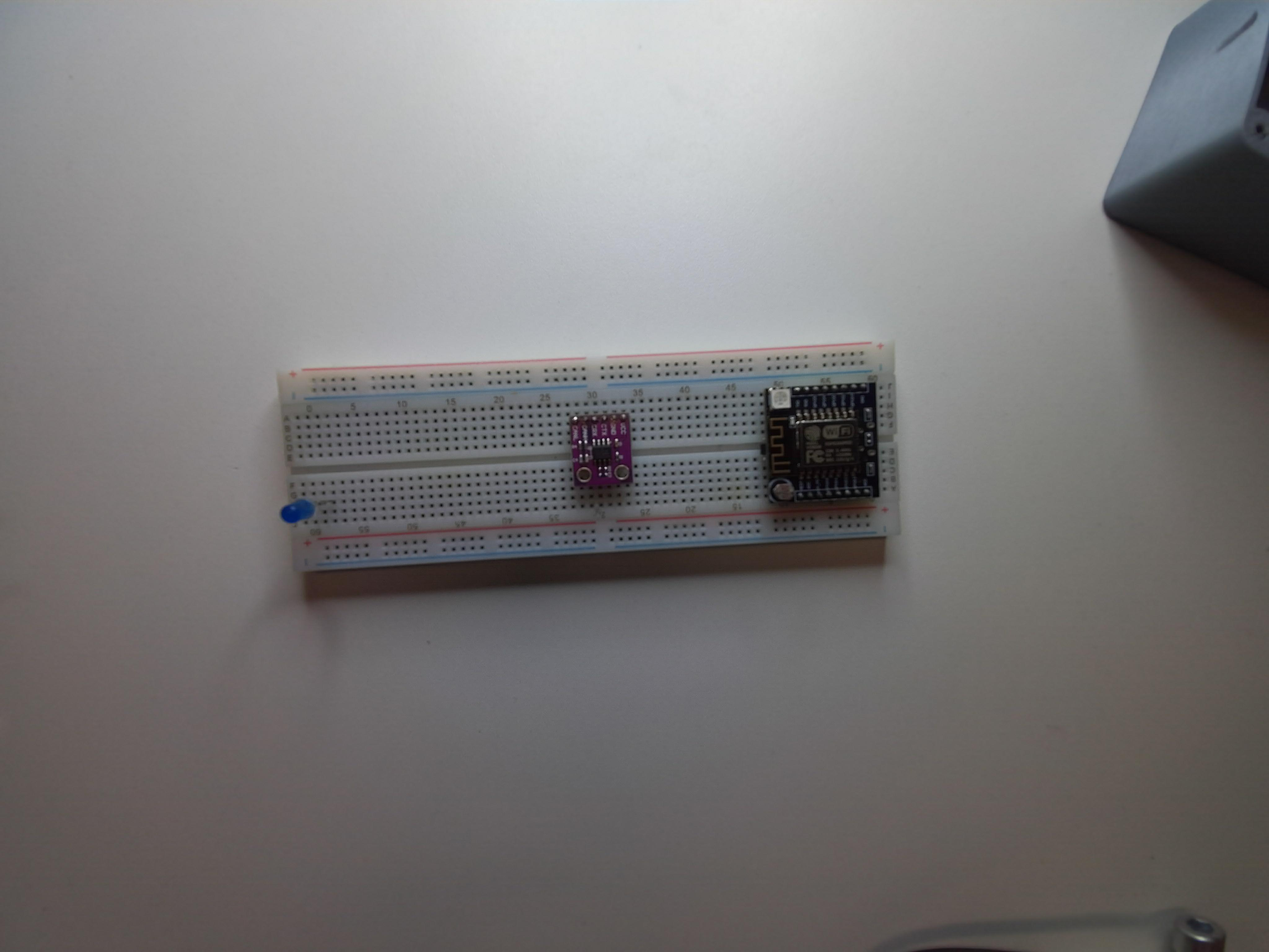base: (273, 341, 896, 603)
blue-led: (281, 498, 316, 525)
esp: (759, 378, 884, 506)
purple-board: (568, 410, 635, 506)
